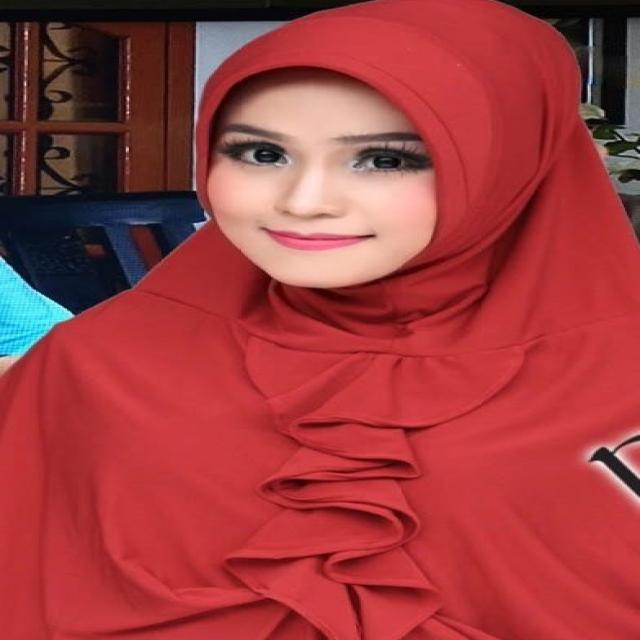head: (188, 2, 593, 299)
